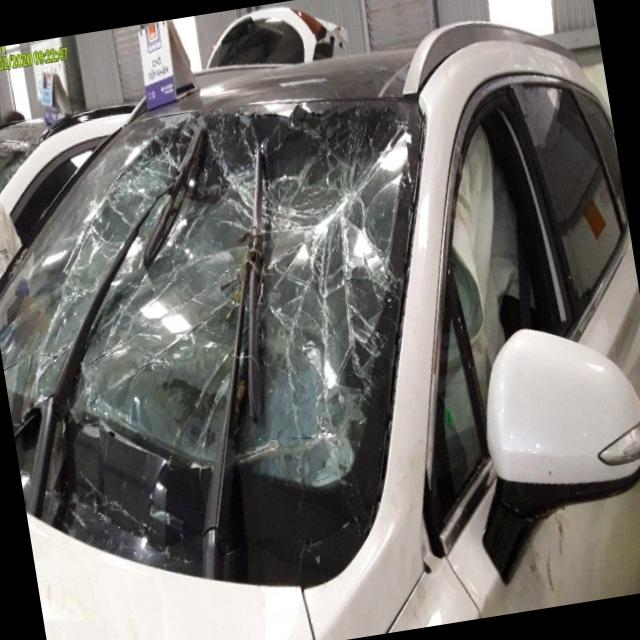Fissure: (0, 67, 494, 598), (103, 279, 261, 448), (8, 192, 132, 398), (282, 262, 363, 494), (316, 122, 383, 239), (222, 135, 263, 263)
